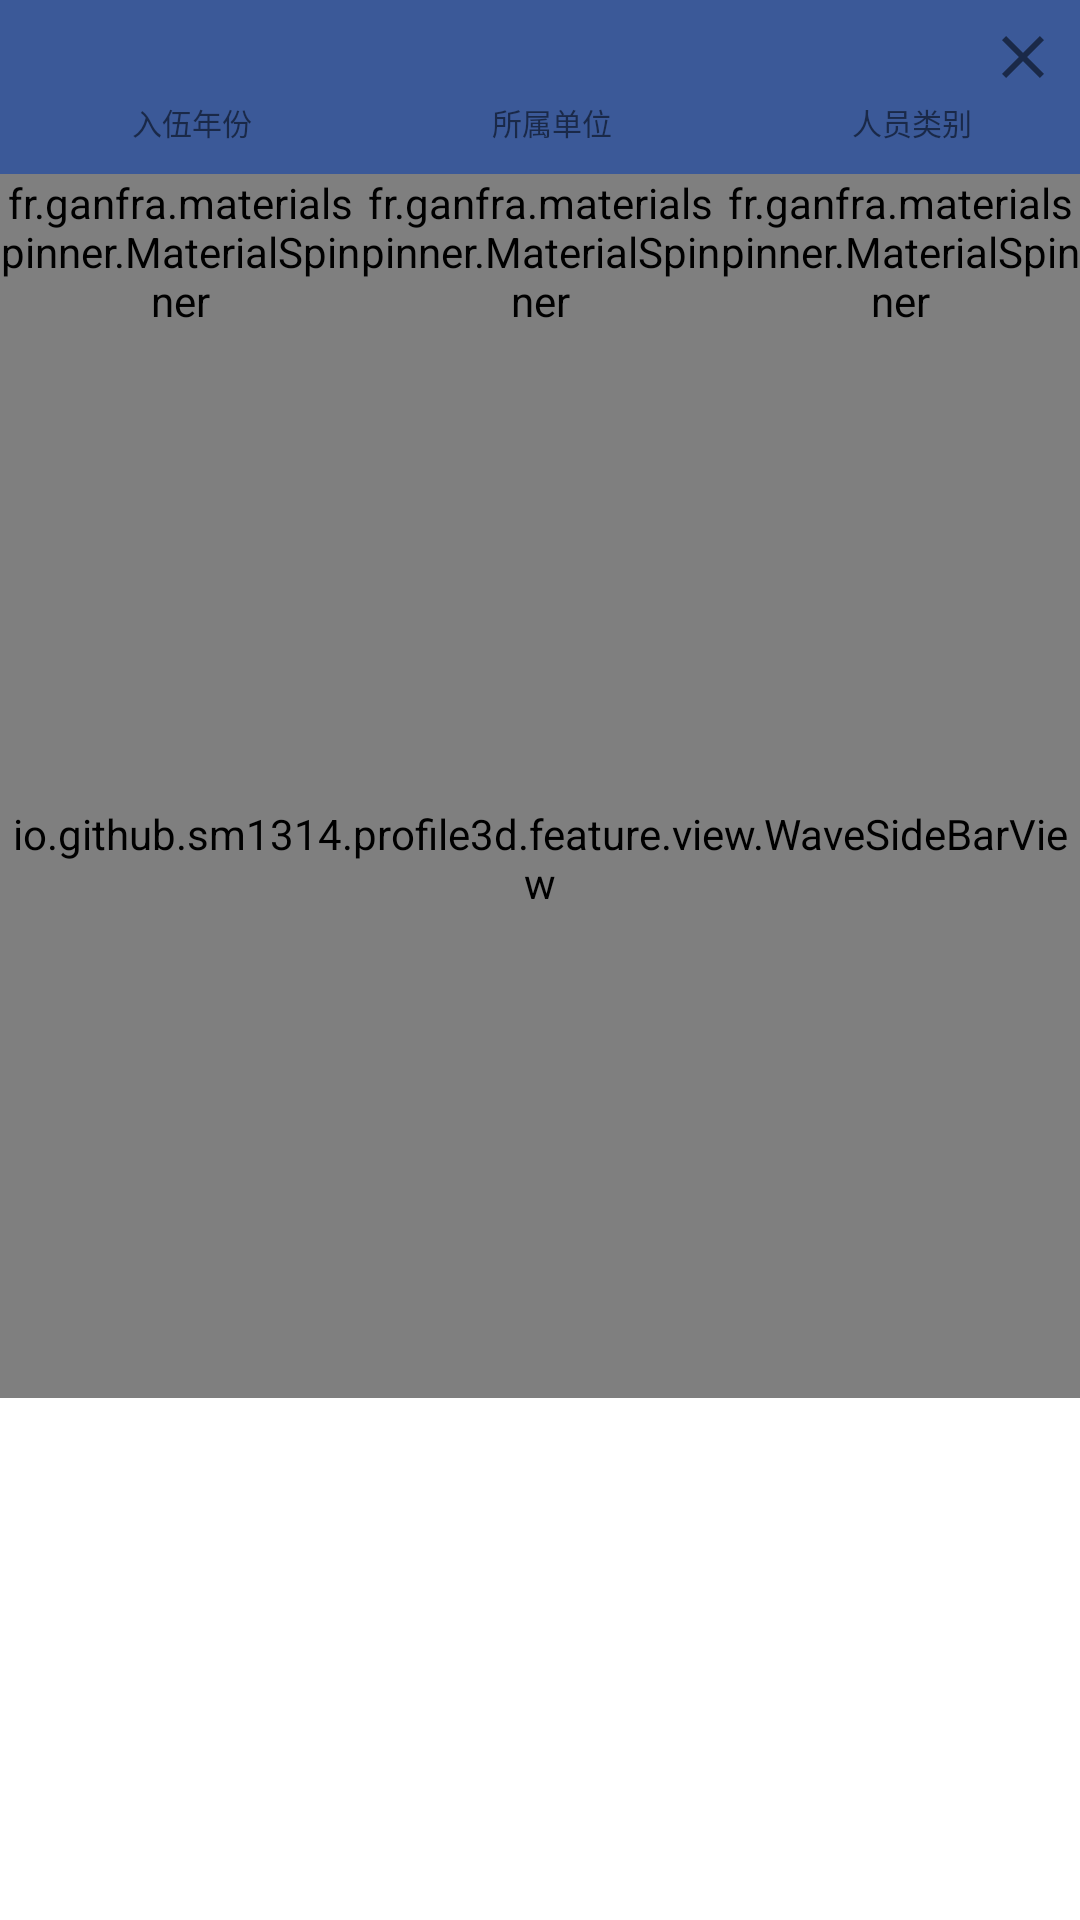

Icons on this 1080px×1920px Android screen, each with the point to tap as point (x, y):
关闭: point (1023, 57)
